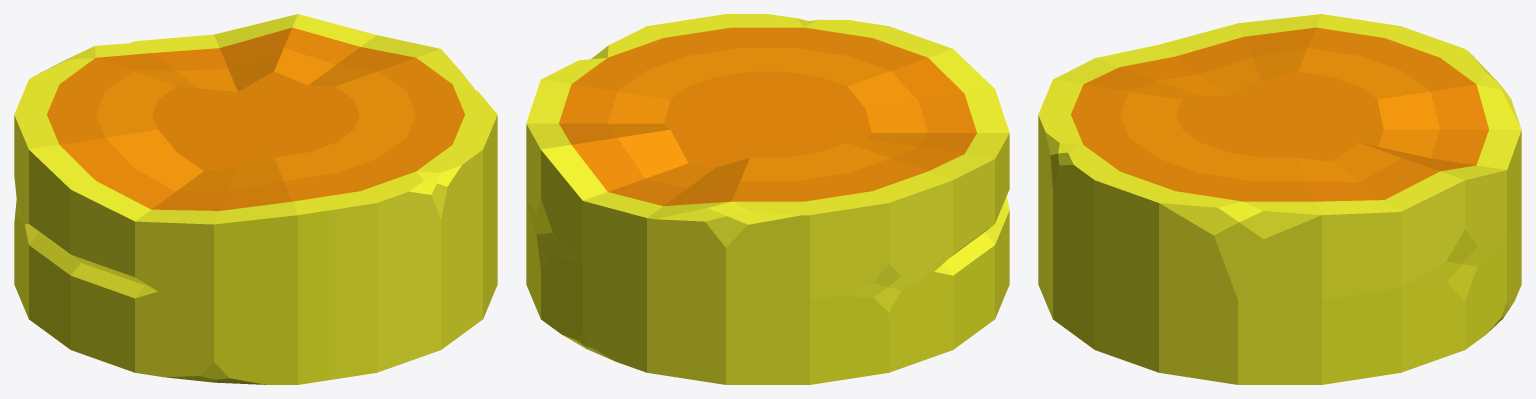
File: Tree log_23.fbx
The picture shows the model from 3 angles, left to right: view 1: azimuth 30°, elevation 25°; view 2: azimuth 150°, elevation 25°; view 3: azimuth 270°, elevation 25°; orthographic projection.
Visible parts, largest first — view 1: Circle.300; view 2: Circle.300; view 3: Circle.300.
Boxes of the visible parts, x1,y1,x2,y2 form: Circle.300: [14, 14, 497, 384]; Circle.300: [526, 14, 1009, 384]; Circle.300: [1038, 14, 1521, 384].
Size of the model in its own units: 23.2 by 9.13 by 23.56.
